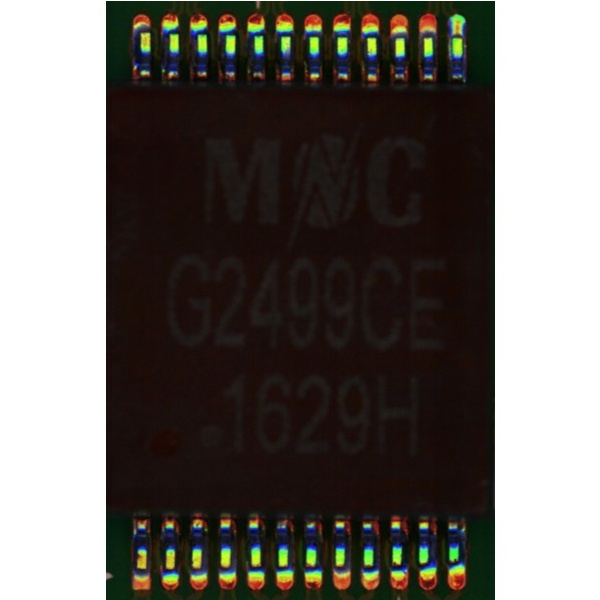Bad_podu: (453, 23, 462, 40)
